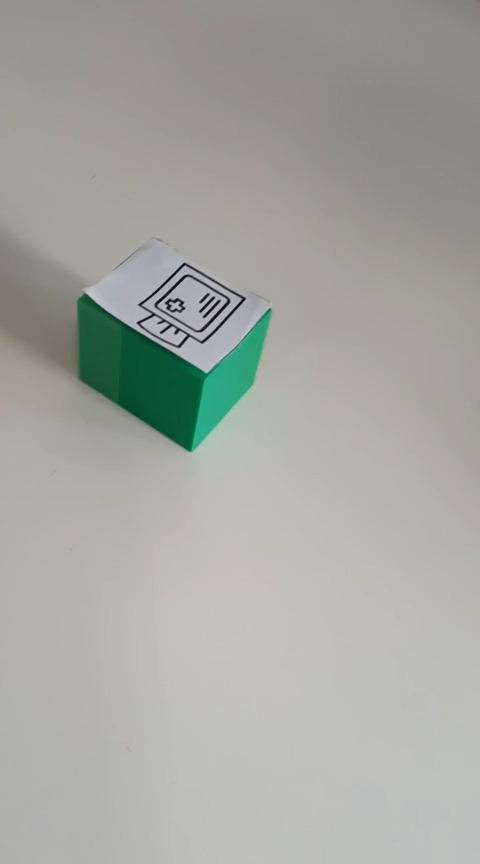Gauze: (75, 234, 273, 452)
